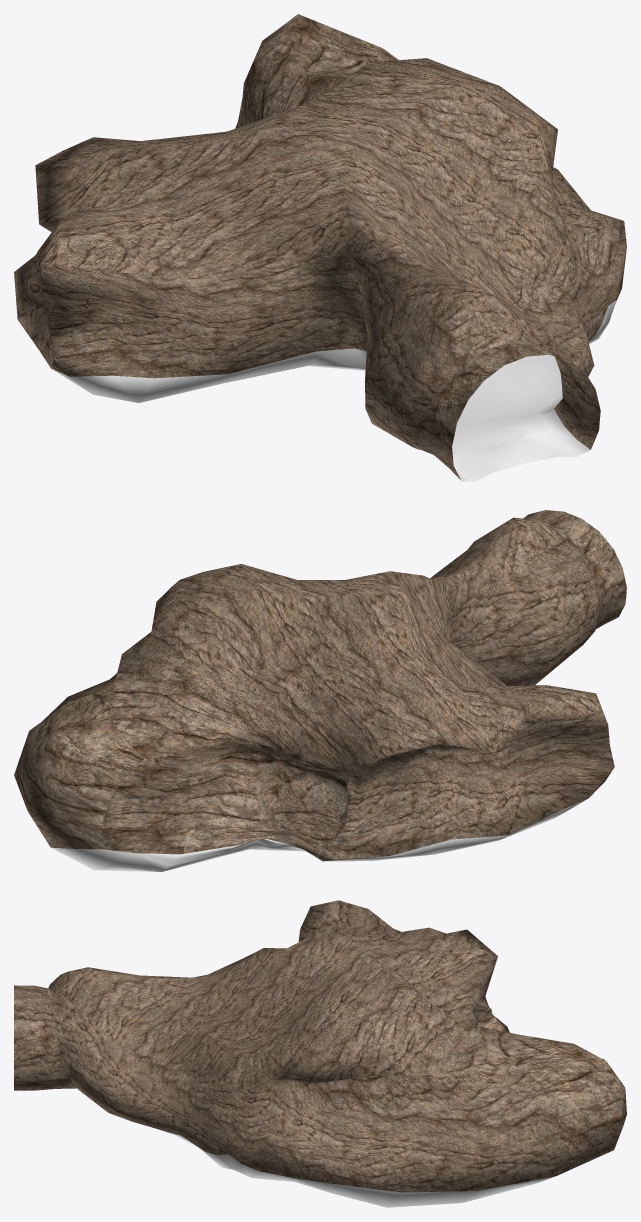
Rendered from CaveRoomEmptyClosed.fbx.
3 views of the same model, one above another, from view 1: azimuth 30°, elevation 25°; view 2: azimuth 150°, elevation 25°; view 3: azimuth 270°, elevation 25° (orthographic). The views are drawn at different scales.
Parts seen in each view (by area): view 1: CaveRoomEmptyClosed; view 2: CaveRoomEmptyClosed; view 3: CaveRoomEmptyClosed.
Boxes of the visible parts, x1=… form: CaveRoomEmptyClosed: x1=14, y1=14, x2=626, y2=481; CaveRoomEmptyClosed: x1=14, y1=510, x2=626, y2=871; CaveRoomEmptyClosed: x1=14, y1=900, x2=626, y2=1207.
Size of the model in its own units: 1244 by 511 by 1599.
